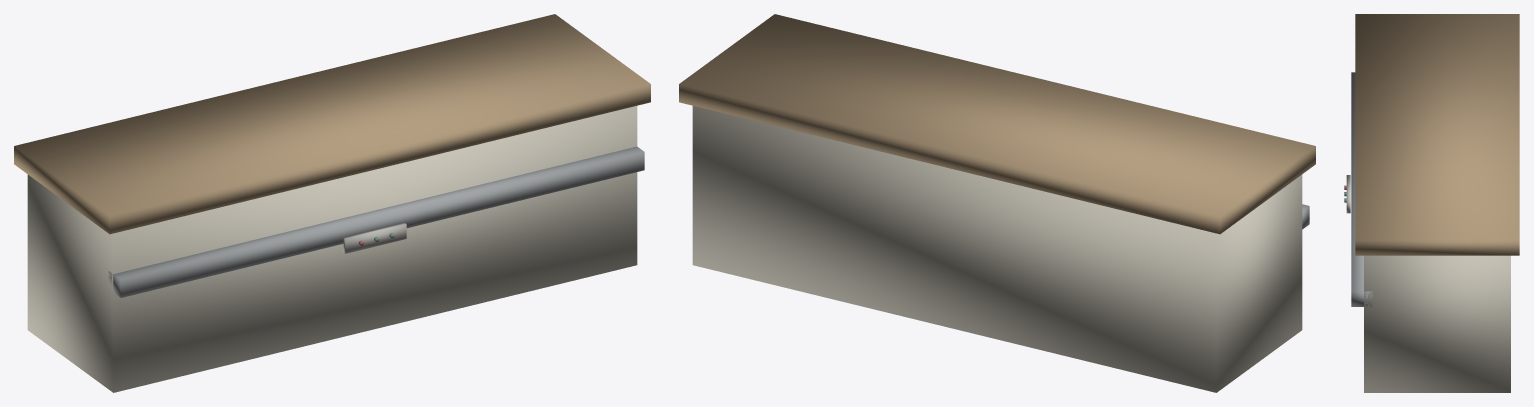
File: diner_counter.glb
The picture shows the model from 3 angles, left to right: view 1: azimuth 30°, elevation 25°; view 2: azimuth 150°, elevation 25°; view 3: azimuth 270°, elevation 25°; orthographic projection. The views are drawn at different scales.
Parts seen in each view (by area): view 1: world; view 2: world; view 3: world.
Part boxes in pixels (x1=…): world: x1=14, y1=14, x2=650, y2=392; world: x1=679, y1=14, x2=1315, y2=392; world: x1=1344, y1=14, x2=1519, y2=392.
Bounding box in the file's own units: 2.48 × 0.8 × 0.811.
